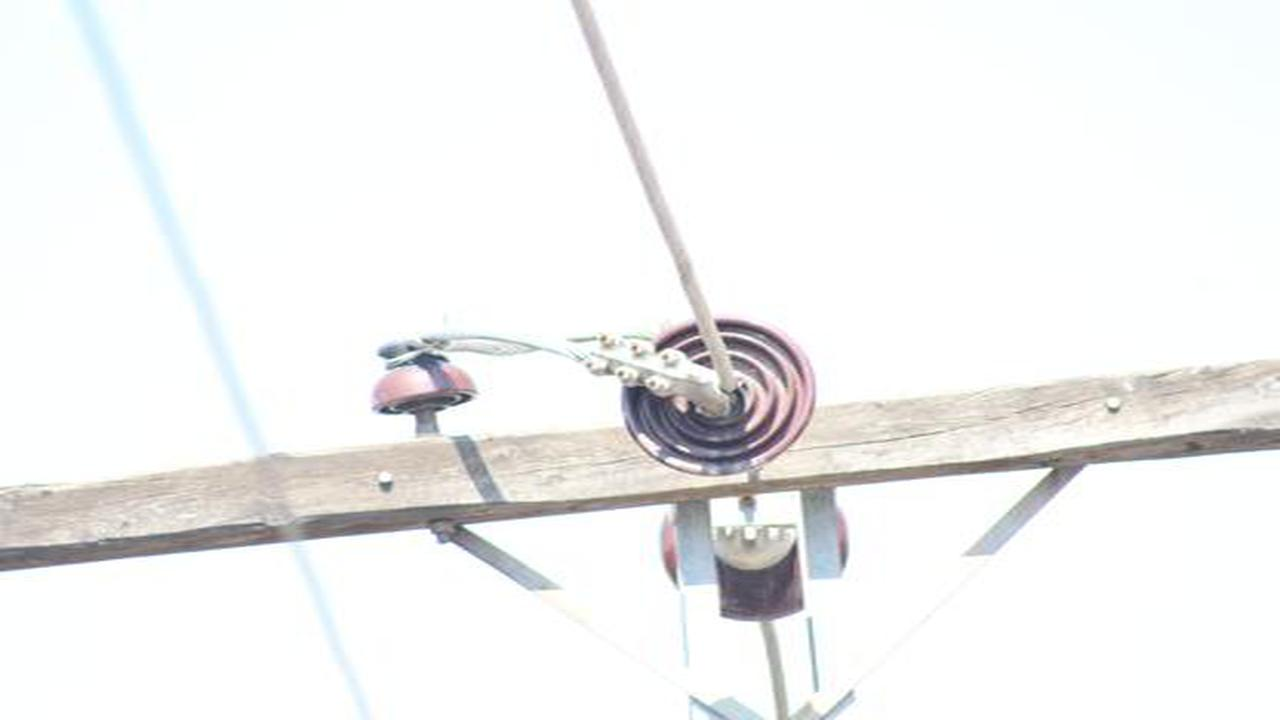insulator_disc: (617, 315, 819, 481), (657, 507, 855, 625)
insulator_pin: (364, 328, 480, 423)
